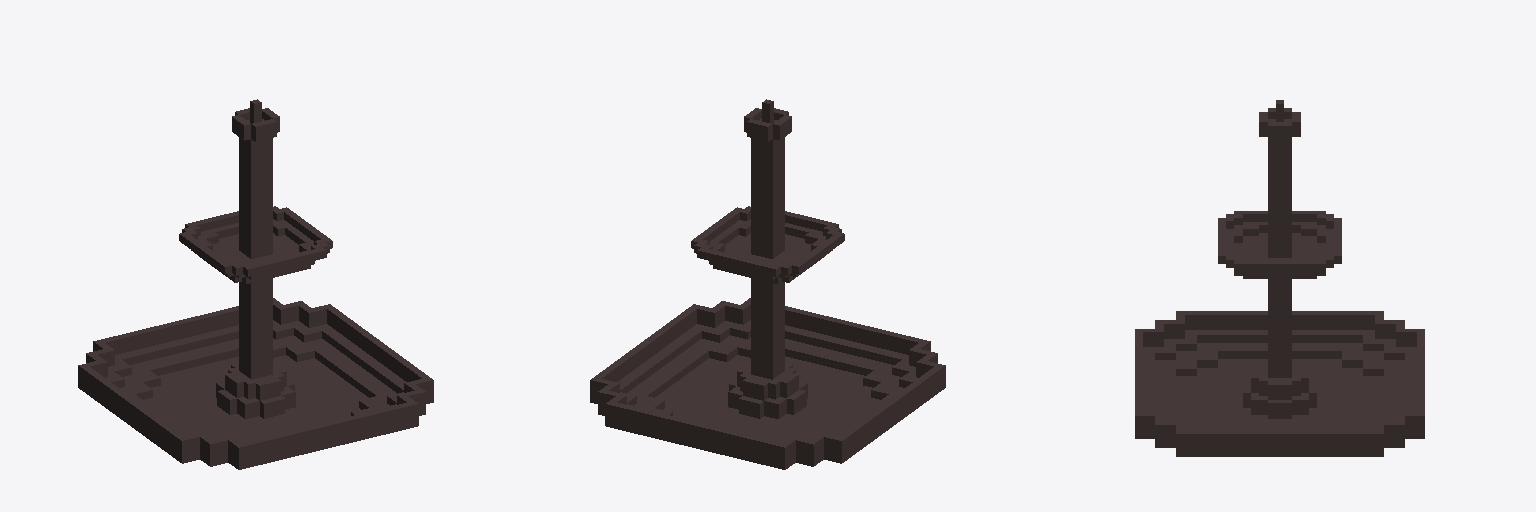
The model's file is fountain.obj.
3 renders of one model, left to right at view 1: azimuth 30°, elevation 25°; view 2: azimuth 150°, elevation 25°; view 3: azimuth 270°, elevation 25°, orthographic.
Visible parts, largest first — view 1: Fountain1; view 2: Fountain1; view 3: Fountain1.
Boxes of the visible parts, x1=… form: Fountain1: x1=78, y1=99, x2=433, y2=469; Fountain1: x1=590, y1=99, x2=945, y2=469; Fountain1: x1=1135, y1=100, x2=1424, y2=456.
Bounding box in the file's own units: 7 × 8.2 × 7.